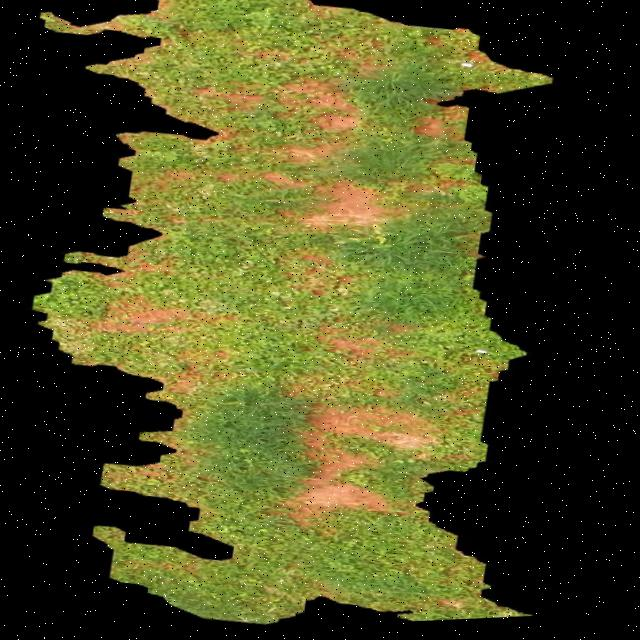Weed: (34, 0, 552, 627)
